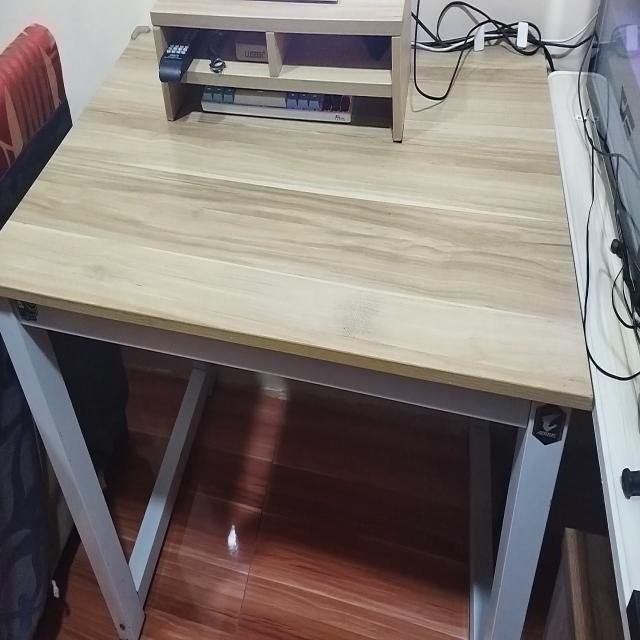table: (0, 22, 595, 640)
